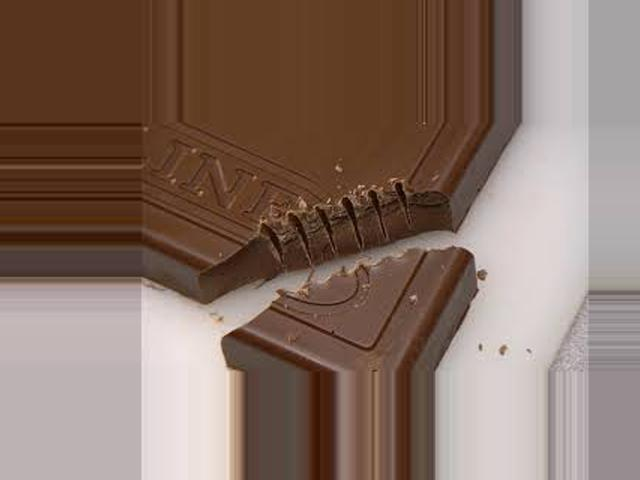chocolate: (142, 126, 524, 373)
